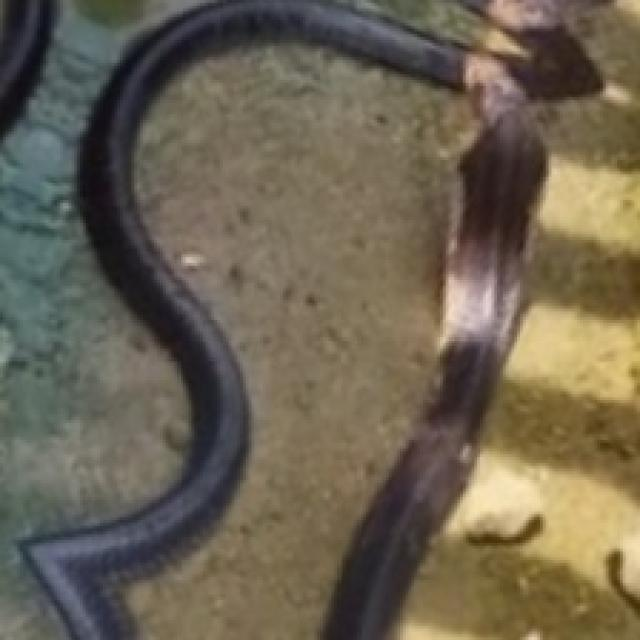king cobra: (21, 2, 546, 640)
